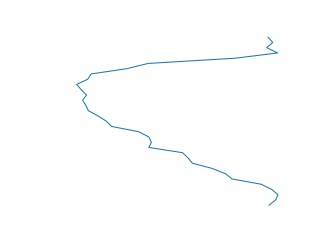mouthBar: (74, 35, 285, 205)
